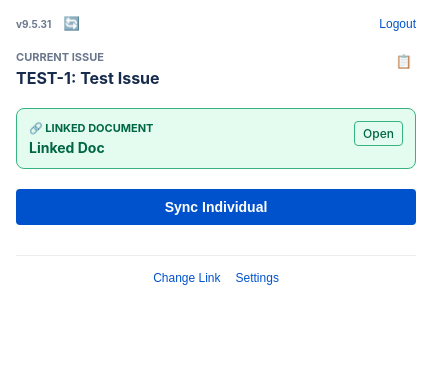
Test case: Stuck Sync Debug › should set progress to 10 locally even if background hangs
The image size is (433, 368).
// Action: Click Sync
Click the button "Sync Individual" at (216, 207), box x1=16 y1=189 x2=416 y2=225
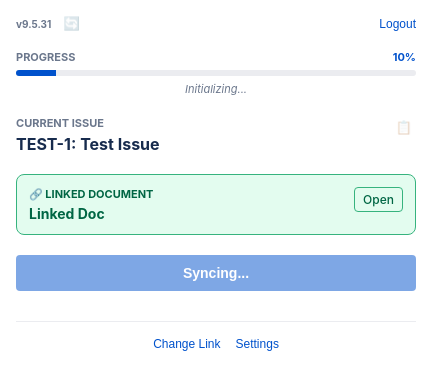
Check: the button "Syncing..." is shown, box x1=16 y1=255 x2=416 y2=291
Check: the text "10%" is shown, box x1=393 y1=50 x2=416 y2=64
